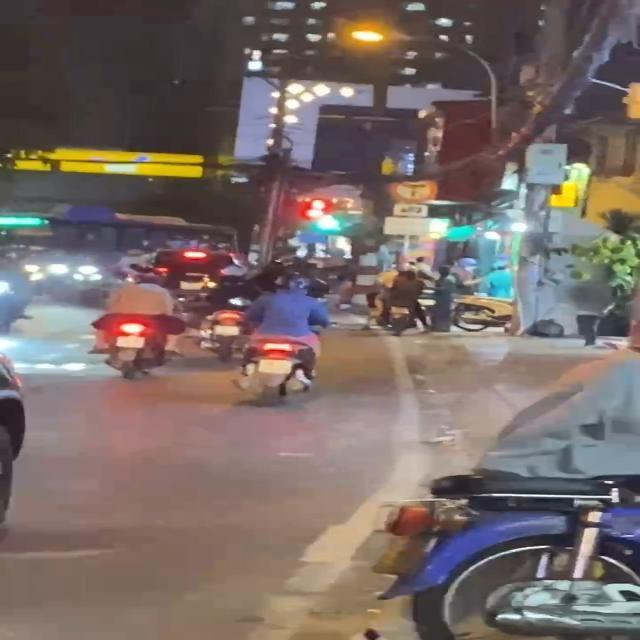137-cam-re-trai-va-re-phai: (390, 177, 438, 203)
